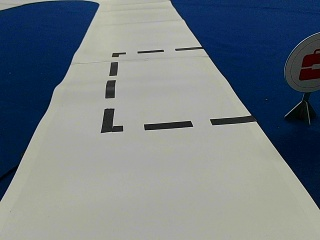company: (284, 32, 319, 91)
